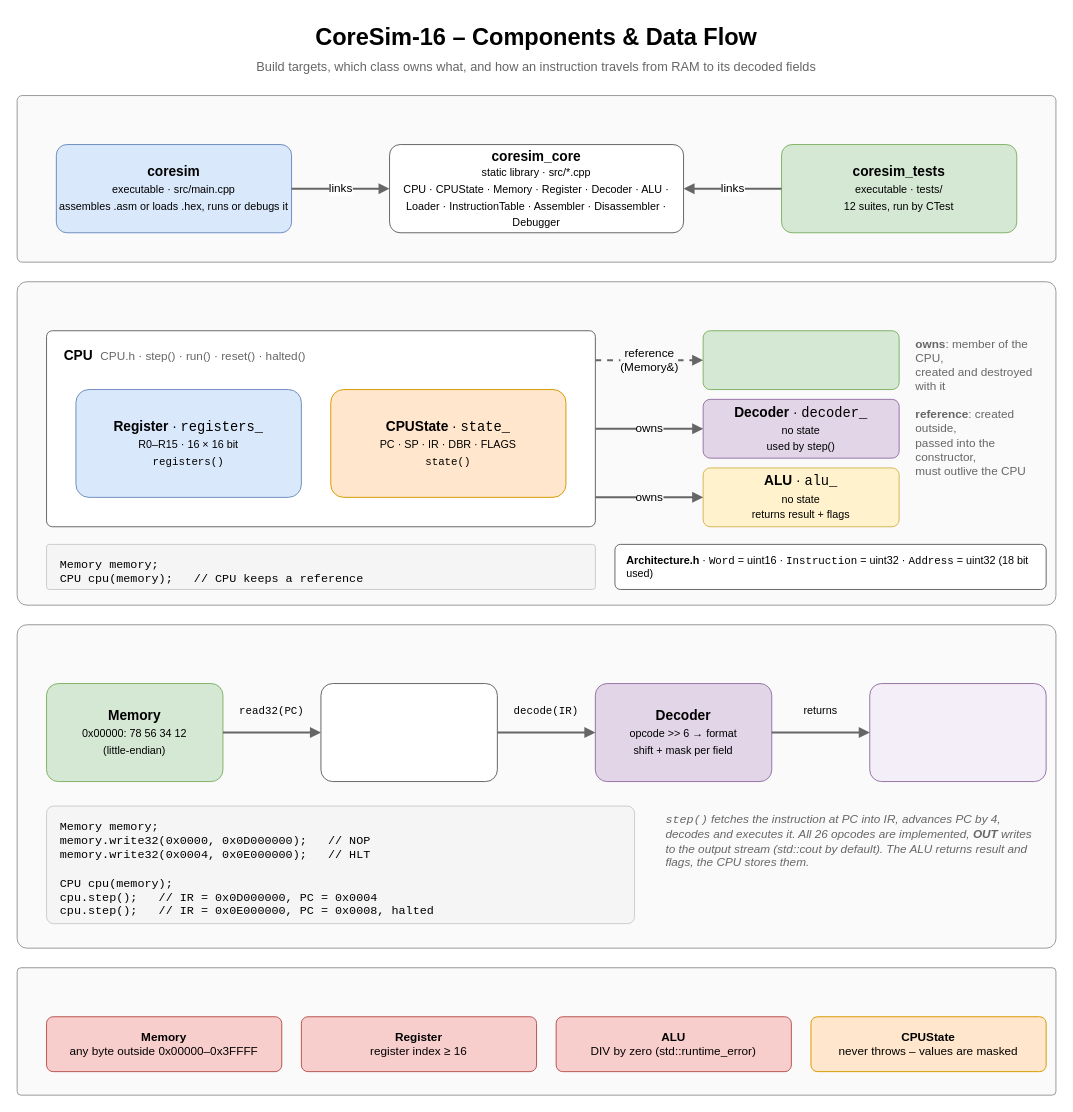
This 1073x1112 diagram has some shape labels left out. Each missing label, with the box of its shape:
Build targets CMakeLists.txt: (16, 95, 1056, 262)
Components include/coresim/: (16, 281, 1056, 605)
Data flow one CPU::step(): (16, 624, 1056, 948)
DecodedInstruction opcode = 0x12 rd = 3 · rs1 = 4 · rs2 = 5: (869, 683, 1046, 782)
Error handling std::out_of_range · std::runtime_error: (16, 967, 1056, 1095)
IR 0x12345678 PC = PC + 4: (320, 683, 497, 782)
Memory · memory_ 256 KB RAM memory(): (702, 330, 899, 390)
